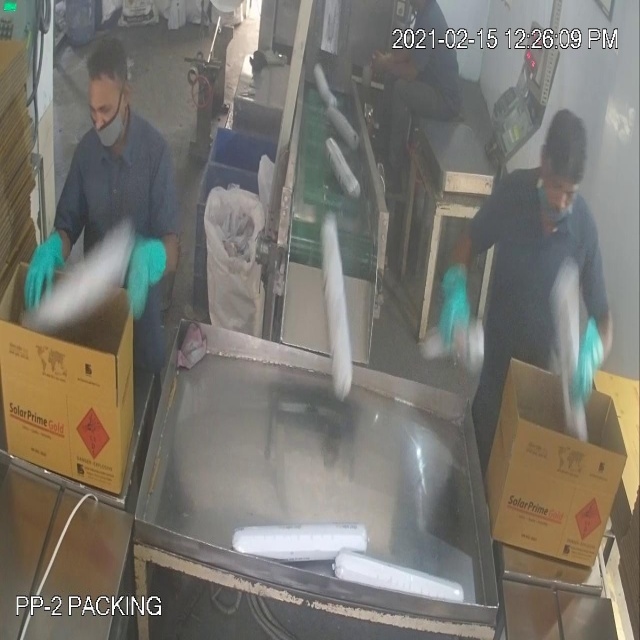Guantes: (110, 209, 176, 329), (16, 220, 77, 321), (434, 262, 484, 359)
Sin_guantes: (366, 37, 425, 97)
